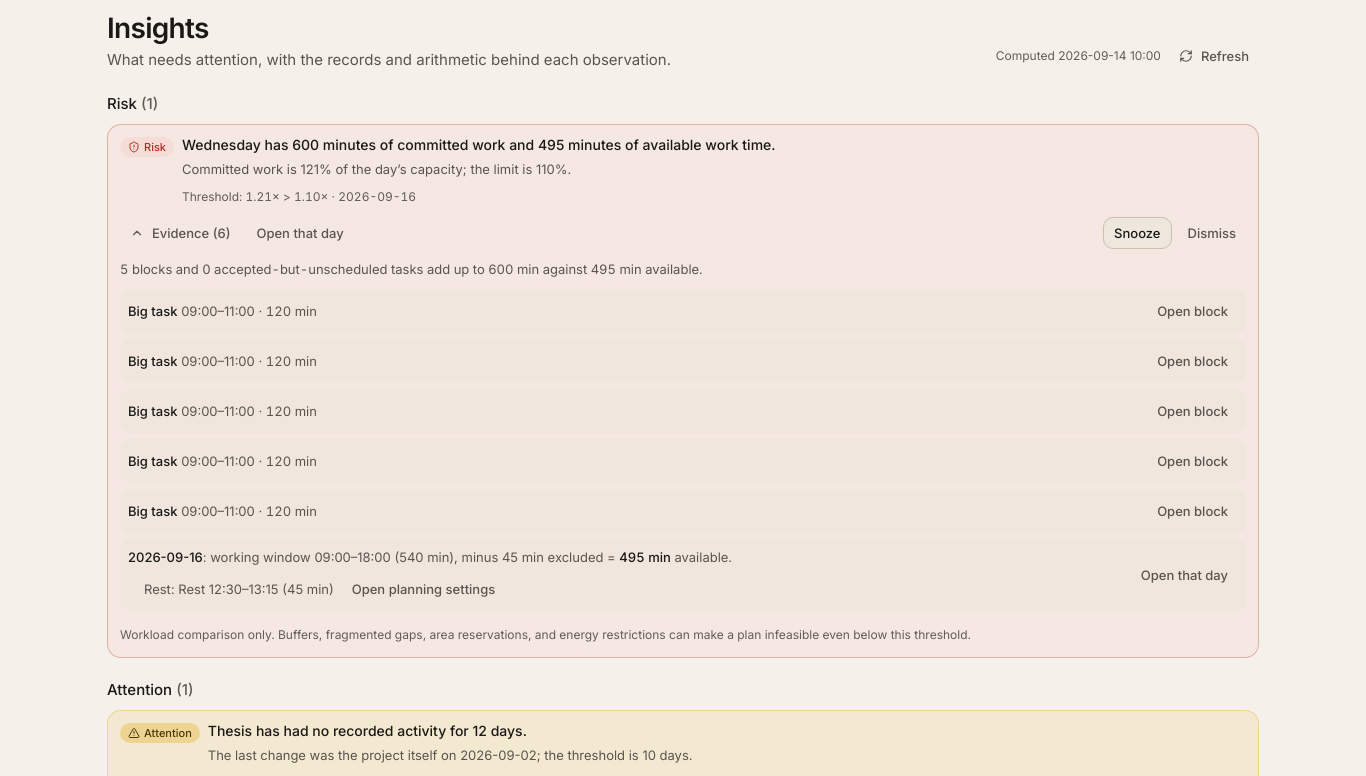
Test: InsightsPage › focuses the card named in the URL and moves focus on after it is dismissed
Click the button with aria-label "Dismiss:" at (1212, 233), box top-left (1178, 217), bottom-right (1246, 249)
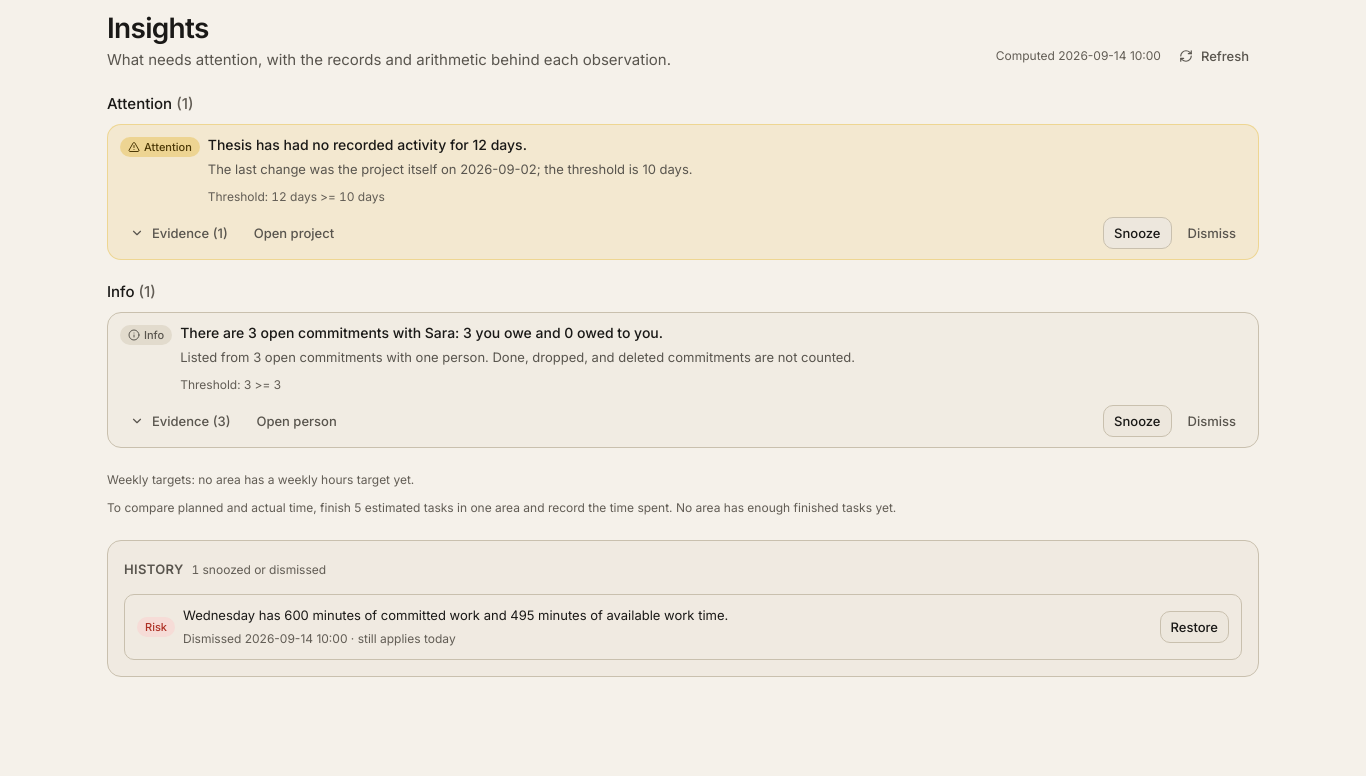
Expected: the number of elements with test id "insight-card" is 2, top-left (107, 124), bottom-right (1259, 260); top-left (107, 312), bottom-right (1259, 448)
